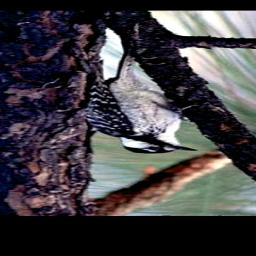Woodpecker: (82, 51, 201, 154)
